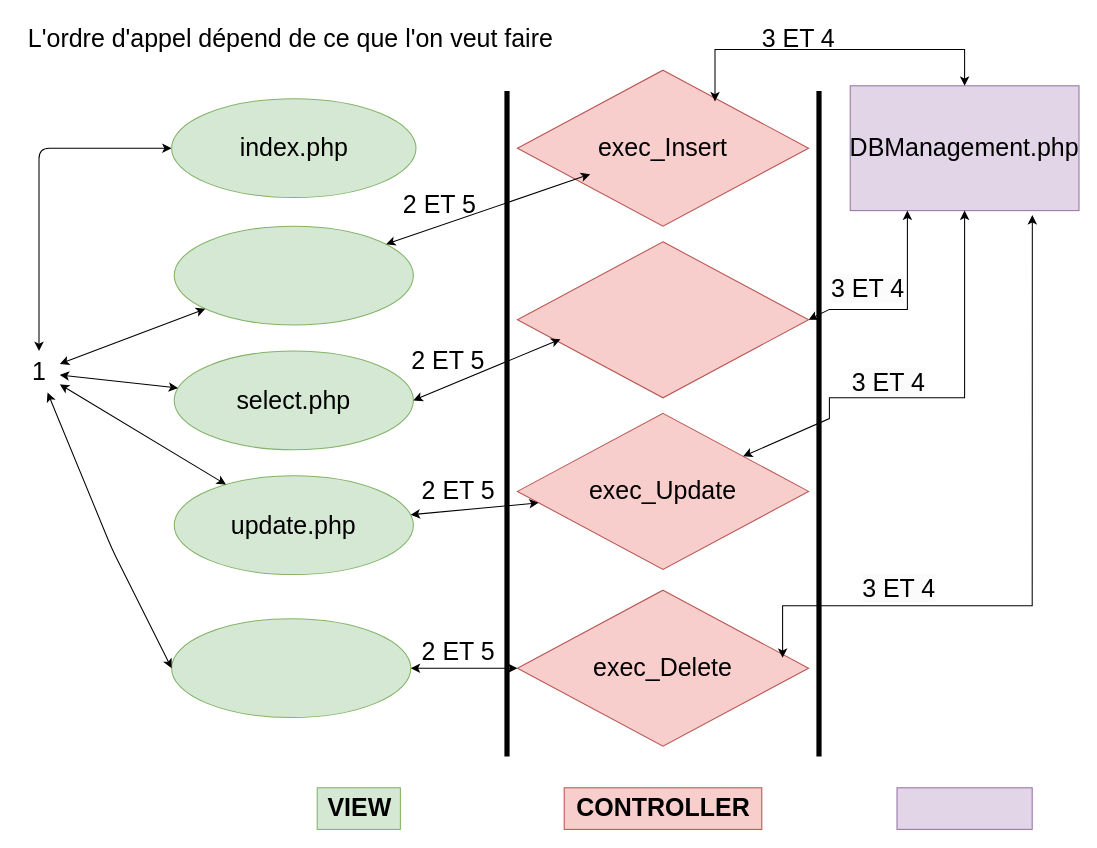
The diagram is 1097 pixels wide and 848 high, and some of its shapes have lost their labels. Here are the shapes that lost their labels. From the top down, the box of each, then its label:
(173, 225, 413, 325): insert.php
(516, 241, 809, 398): exec_Select
(171, 618, 411, 718): delete.php
(896, 787, 1032, 829): MODELE
